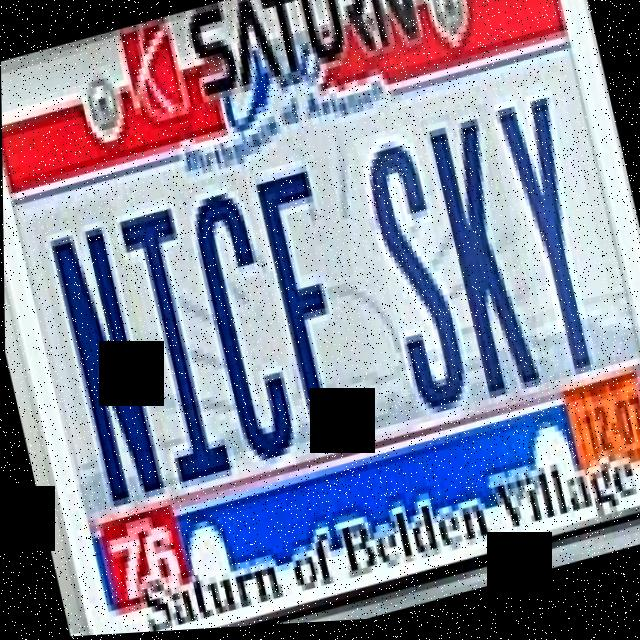C: (177, 167, 307, 475)
E: (248, 157, 391, 467), (353, 127, 474, 434)
I: (109, 190, 241, 503)
K: (420, 106, 549, 417)
N: (30, 196, 178, 527)
Y: (490, 81, 623, 383)
